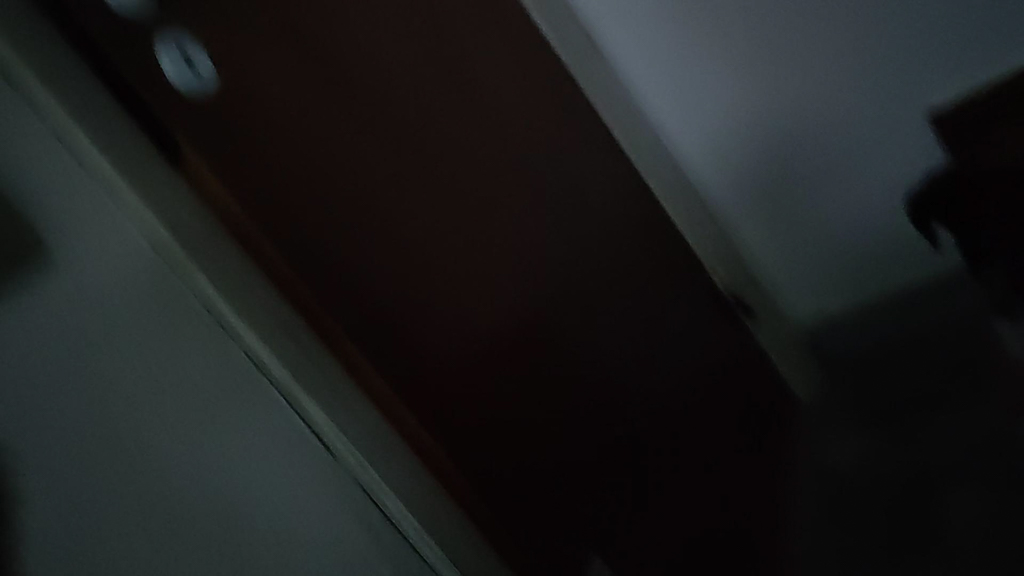Dog: (881, 120, 1024, 362)
